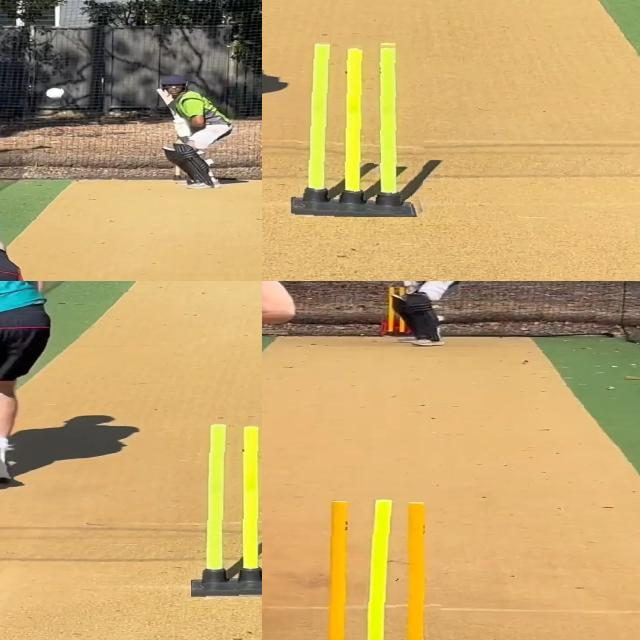Cricket ball: (44, 86, 67, 100)
Stumps: (290, 40, 427, 217), (312, 502, 443, 640), (190, 419, 262, 598)
